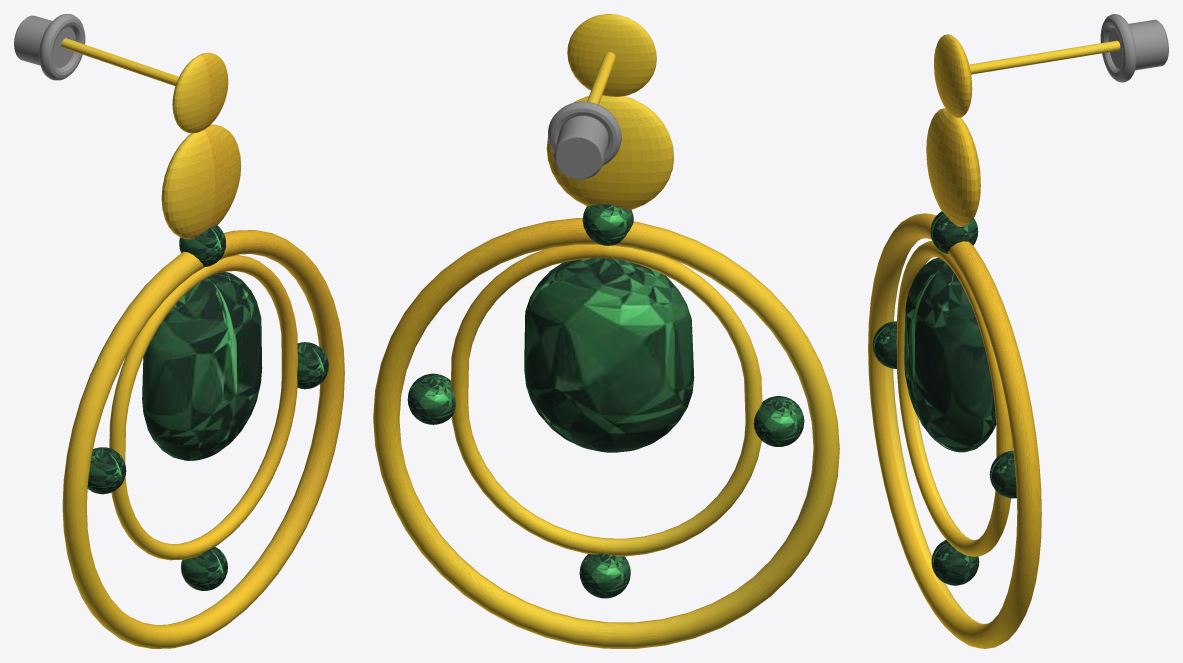
File: toruses.glb
3 views of the same model, side by side, from view 1: azimuth 30°, elevation 25°; view 2: azimuth 150°, elevation 25°; view 3: azimuth 270°, elevation 25° (orthographic). The views are drawn at different scales.
Parts seen in each view (by area): view 1: Torus.002, Sphere, Torus.003, Sphere.005, Sphere.006, Cylinder.002, Torus, Sphere.002, Sphere.003, Cylinder, Sphere.001, Sphere.004; view 2: Torus.002, Sphere, Torus.003, Sphere.005, Sphere.006, Cylinder.002, Sphere.003, Sphere.001, Sphere.002, Torus, Sphere.004, Cylinder; view 3: Torus.002, Sphere, Torus.003, Sphere.005, Sphere.006, Cylinder.002, Cylinder, Torus, Sphere.002, Sphere.004, Sphere.001, Sphere.003.
Boxes of the visible parts, <box> form: Torus.002: <box>62,230,344,648</box>; Sphere: <box>142,272,262,460</box>; Torus.003: <box>109,255,297,560</box>; Sphere.005: <box>161,124,241,239</box>; Sphere.006: <box>172,52,228,133</box>; Cylinder.002: <box>14,15,75,67</box>; Torus: <box>39,14,85,80</box>; Sphere.002: <box>181,547,227,590</box>; Sphere.003: <box>87,447,126,494</box>; Cylinder: <box>61,38,178,86</box>; Sphere.001: <box>297,342,328,389</box>; Sphere.004: <box>179,225,225,266</box>; Torus.002: <box>373,218,839,648</box>; Sphere: <box>524,258,694,452</box>; Torus.003: <box>451,244,762,556</box>; Sphere.005: <box>546,95,674,209</box>; Sphere.006: <box>567,14,656,96</box>; Cylinder.002: <box>554,116,608,179</box>; Sphere.003: <box>753,396,804,446</box>; Sphere.001: <box>407,373,455,424</box>; Sphere.002: <box>579,554,630,598</box>; Torus: <box>548,101,621,165</box>; Sphere.004: <box>582,204,633,245</box>; Cylinder: <box>587,52,615,104</box>; Torus.002: <box>868,213,1041,648</box>; Sphere: <box>904,257,996,452</box>; Torus.003: <box>896,241,1012,556</box>; Sphere.005: <box>926,108,980,226</box>; Sphere.006: <box>934,34,972,117</box>; Cylinder.002: <box>1108,19,1168,70</box>; Cylinder: <box>969,40,1120,74</box>; Torus: <box>1100,14,1136,82</box>; Sphere.002: <box>931,540,979,585</box>; Sphere.004: <box>930,211,978,254</box>; Sphere.001: <box>989,450,1016,498</box>; Sphere.003: <box>872,321,896,368</box>.
Size of the model in its own units: 1.99 by 3.14 by 1.45.
Materials: 3 (2 with a texture image).
